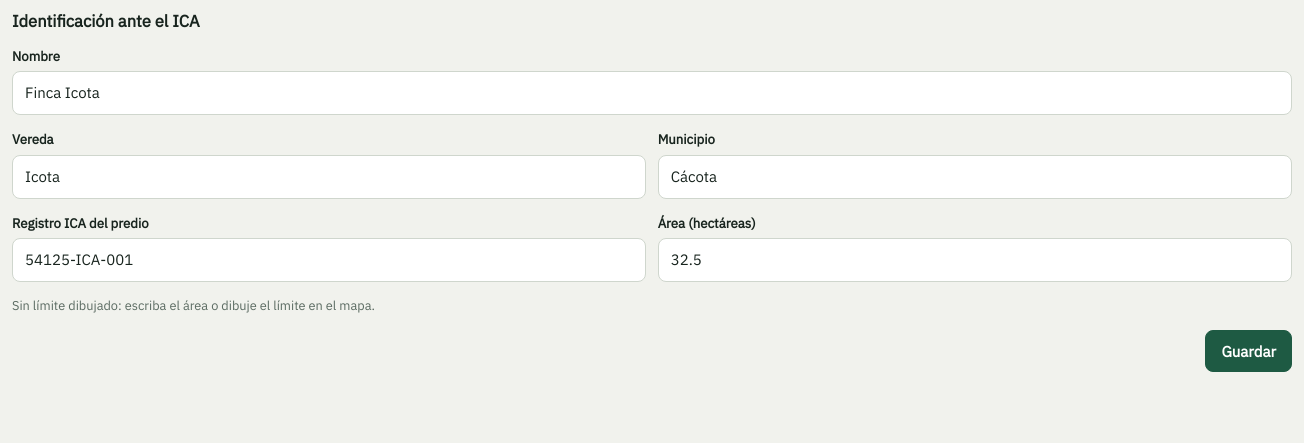
it: FormularioPredio › muestra un error si la API rechaza los datos
The width and height of the screenshot is (1304, 443).
Click the button "Guardar": (1249, 352) [1205, 330, 1292, 372]
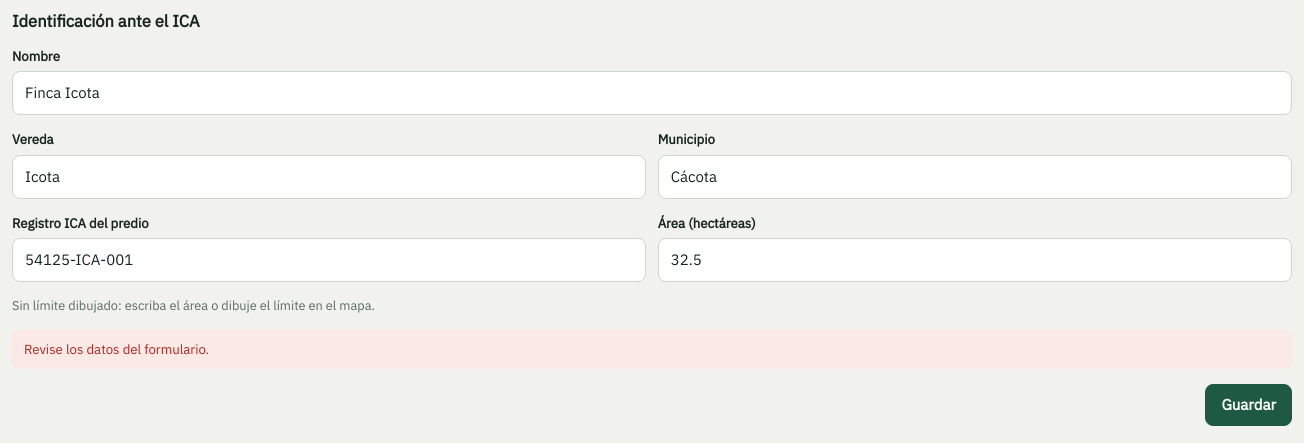
Expected: the message reads "Revise los datos del formulario.", [24, 340, 209, 358]
